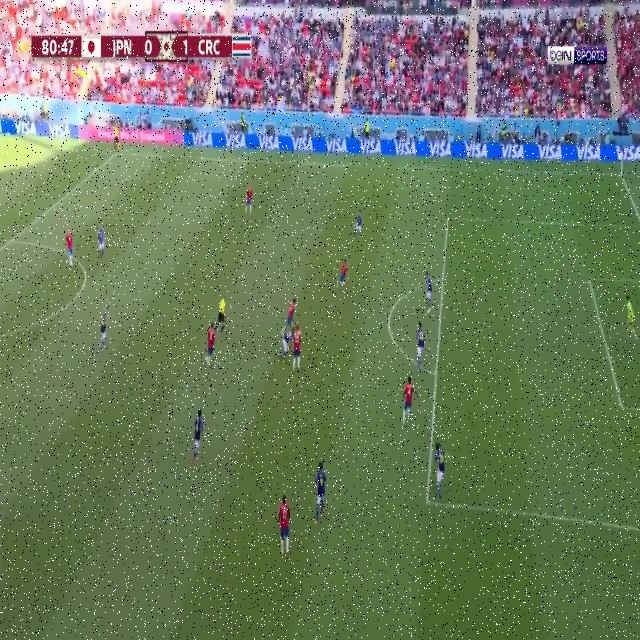Ball: (300, 330, 302, 334)
GoalKeeper: (624, 294, 640, 344)
Referee: (214, 292, 230, 336), (111, 124, 123, 153)
TEAM 1: (400, 374, 420, 425), (276, 492, 291, 556), (277, 296, 299, 334), (203, 318, 218, 368), (64, 226, 76, 271), (292, 326, 302, 375), (336, 258, 350, 290), (244, 184, 253, 218)
TEAM 2: (431, 441, 454, 501), (314, 461, 328, 524), (191, 406, 205, 464), (278, 328, 294, 364), (424, 268, 435, 316), (416, 320, 426, 372), (100, 306, 110, 347), (354, 207, 364, 241), (98, 223, 106, 260)
